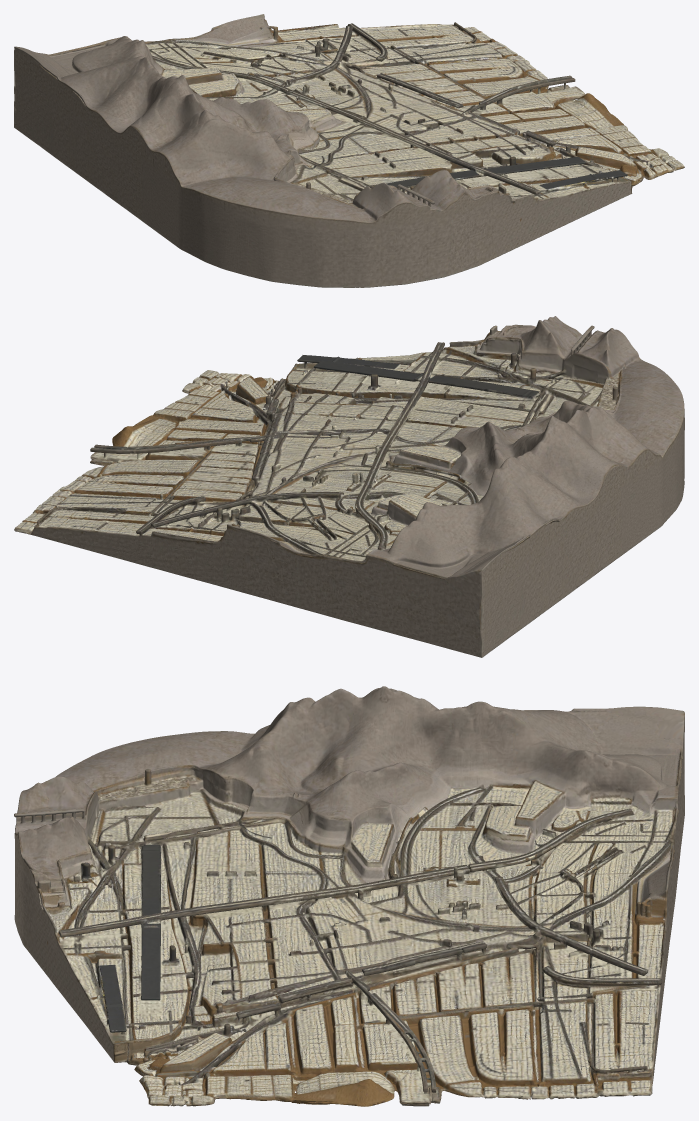
File: mina-tent-city.glb
3 renders of one model, top to bottom at view 1: azimuth 30°, elevation 25°; view 2: azimuth 150°, elevation 25°; view 3: azimuth 270°, elevation 25°, orthographic. The views are drawn at different scales.
Visible parts, largest first — view 1: tripo_node_bacca238-4813-4091-97f1-6c8918ed3bff; view 2: tripo_node_bacca238-4813-4091-97f1-6c8918ed3bff; view 3: tripo_node_bacca238-4813-4091-97f1-6c8918ed3bff.
Boxes of the visible parts, x1=… form: tripo_node_bacca238-4813-4091-97f1-6c8918ed3bff: x1=14, y1=14, x2=684, y2=287; tripo_node_bacca238-4813-4091-97f1-6c8918ed3bff: x1=14, y1=316, x2=684, y2=657; tripo_node_bacca238-4813-4091-97f1-6c8918ed3bff: x1=14, y1=686, x2=684, y2=1106.
Size of the model in its own units: 0.9831 by 0.2561 by 0.9531.
1 material, 1 textured.
